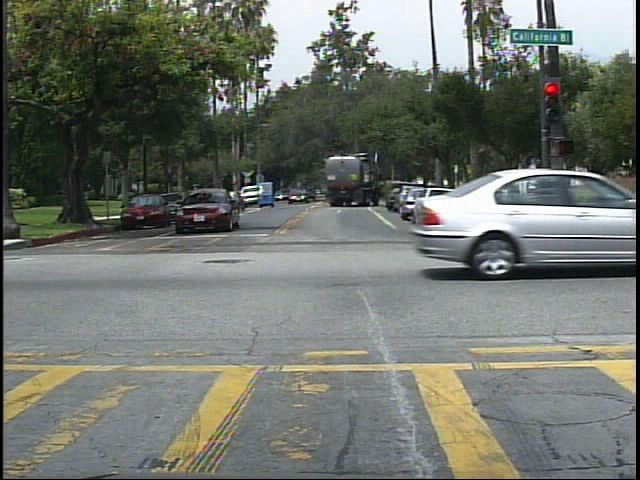person: (510, 177, 523, 197)
